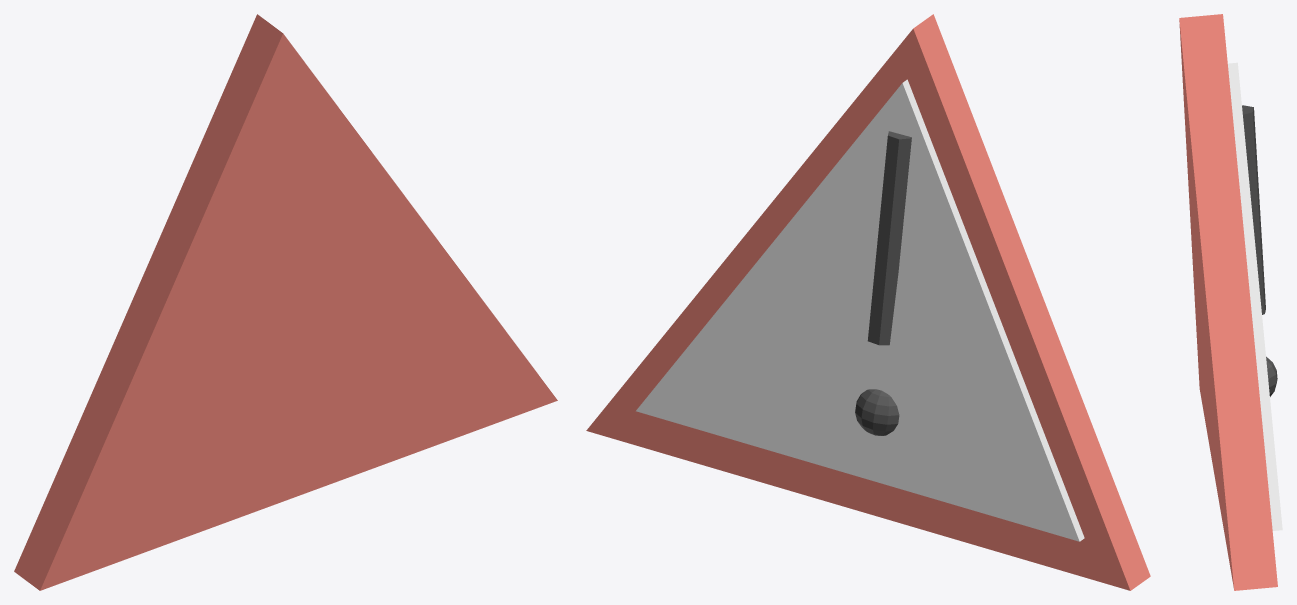
File: Warning.fbx
3 views of the same model, side by side, from view 1: azimuth 30°, elevation 25°; view 2: azimuth 150°, elevation 25°; view 3: azimuth 270°, elevation 25° (orthographic). The views are drawn at different scales.
Visible parts, largest first — view 1: mesh89700527; view 2: mesh1329080522, mesh89700527, mesh197010952, mesh492657929; view 3: mesh89700527, mesh1329080522, mesh197010952, mesh492657929.
Boxes of the visible parts, box(x1,y1,x2,y2) form: mesh89700527: box(14, 14, 557, 590); mesh1329080522: box(636, 79, 1084, 541); mesh89700527: box(586, 14, 1150, 590); mesh197010952: box(867, 131, 911, 345); mesh492657929: box(855, 389, 899, 435); mesh89700527: box(1179, 14, 1277, 590); mesh1329080522: box(1228, 62, 1282, 530); mesh197010952: box(1242, 105, 1265, 314); mesh492657929: box(1266, 356, 1277, 396).
Size of the model in its own units: 22.36 by 20.28 by 3.97.
